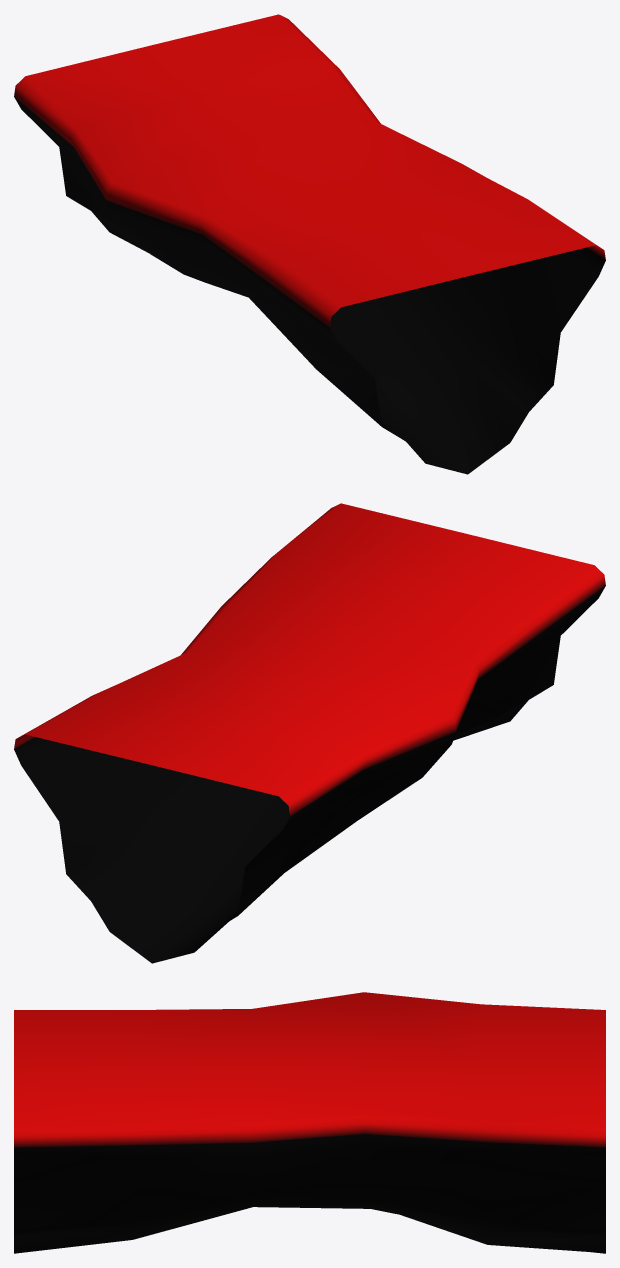
File: CrossingCliff01C 2M Background.fbx
The picture shows the model from 3 angles, top to bottom: view 1: azimuth 30°, elevation 25°; view 2: azimuth 150°, elevation 25°; view 3: azimuth 270°, elevation 25°; orthographic projection. The views are drawn at different scales.
Parts seen in each view (by area): view 1: CrossingCliff01C 2M Background; view 2: CrossingCliff01C 2M Background; view 3: CrossingCliff01C 2M Background.
Part boxes in pixels (<box>): CrossingCliff01C 2M Background: <box>14,14,605,474</box>; CrossingCliff01C 2M Background: <box>14,503,605,963</box>; CrossingCliff01C 2M Background: <box>14,992,605,1253</box>.
Size of the model in its own units: 1.14 by 0.693 by 2.
